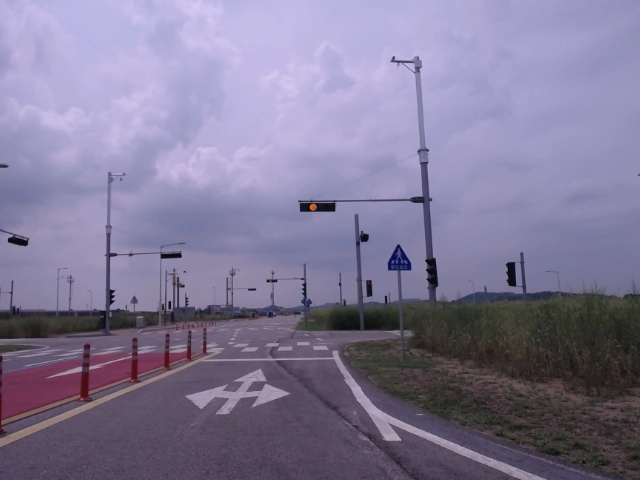orange_4: (297, 202, 336, 213), (265, 278, 279, 284)
